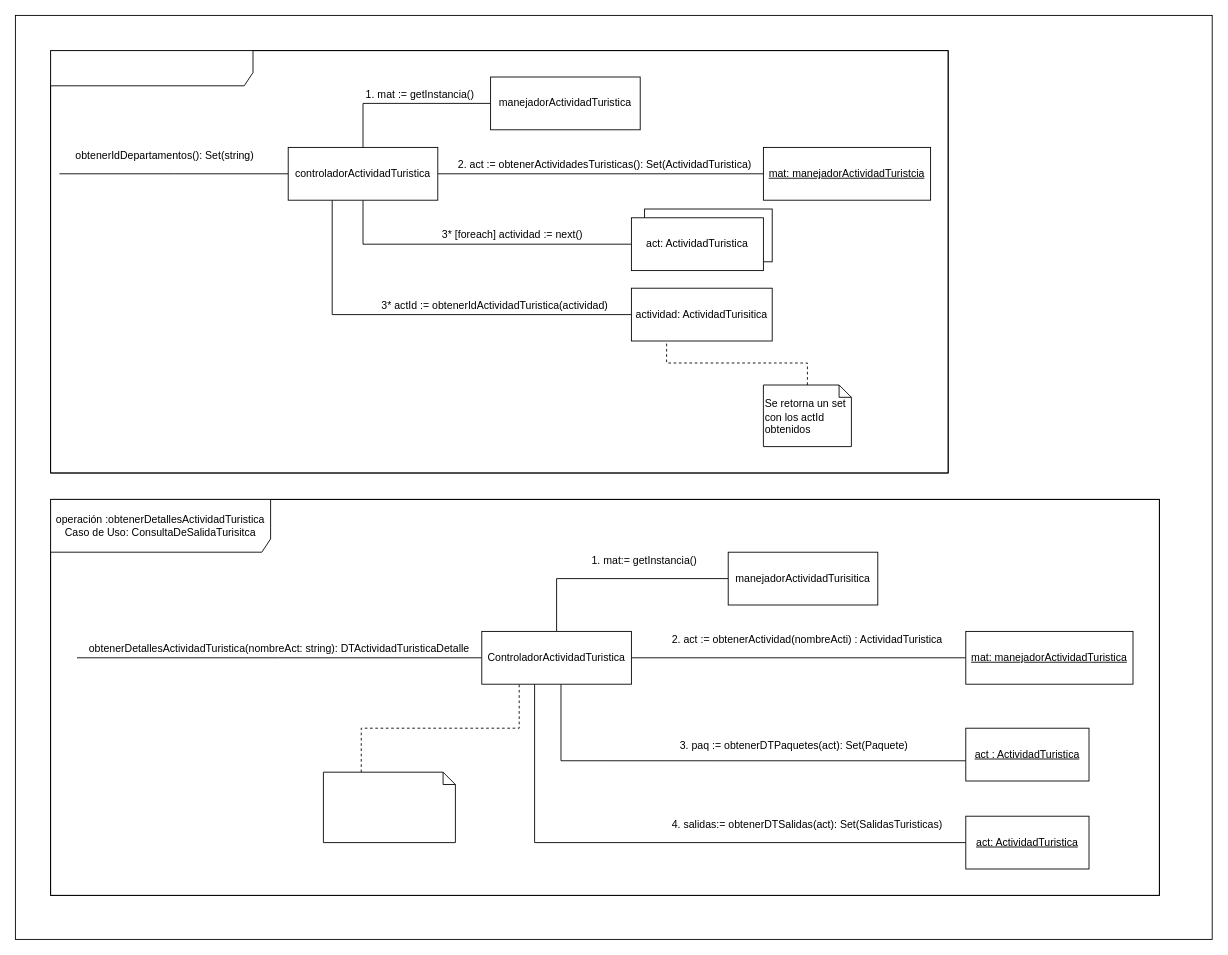
Some shapes in this 1228 by 955 pixel diagram are drawn without their labels. The shapes that lost their labels are listed below. From the top down, each one's box as (x1, y1, x2, y2) in pixels, then its label:
(50, 50, 948, 473): operacion: obtenerIdDepartamentos() Caso de Uso: ConsultaDesalidaTuristica
(323, 771, 455, 843): Se retorna un objeto conformado por paq, salidas y loas atributos de act
